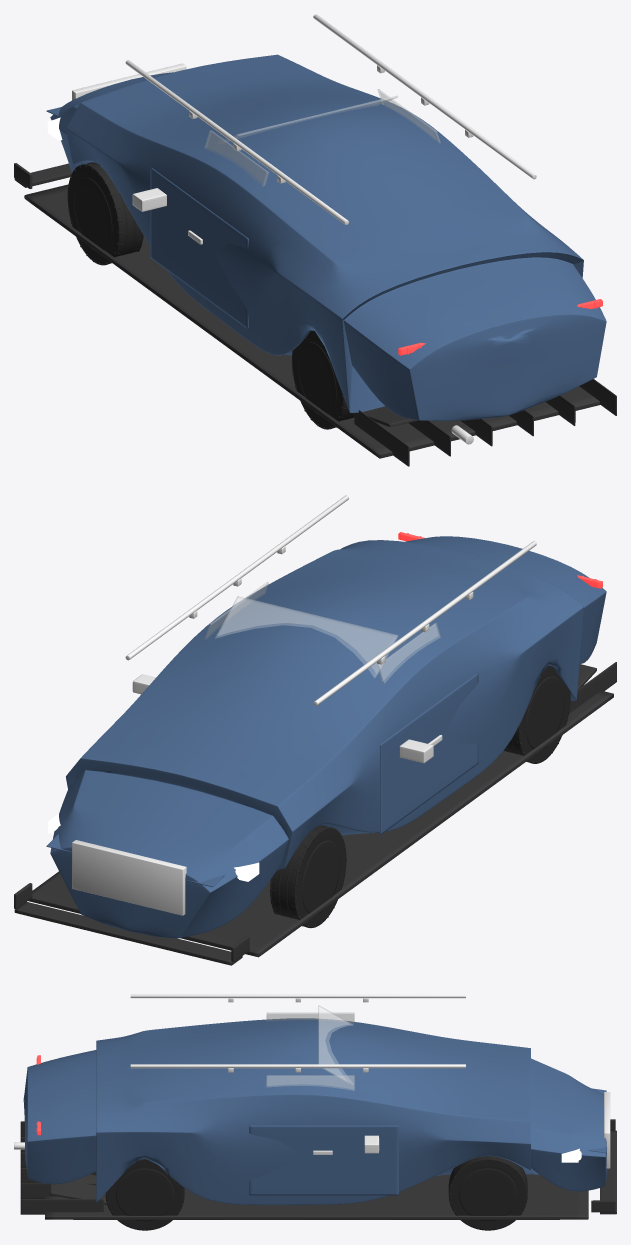
Rendered from vehicle.opt.glb.
The picture shows the model from 3 angles, top to bottom: view 1: azimuth 30°, elevation 25°; view 2: azimuth 150°, elevation 25°; view 3: azimuth 270°, elevation 25°; orthographic projection. The views are drawn at different scales.
Visible parts, largest first — view 1: BODY_MainShell, UNDERBODY_FlatFloor, BODY_Door_FL, WHEEL_FL_Tire, JEWELRY_300TD_RoofRails, WHEEL_RL_Tire, GLASS_Greenhouse, AERO_FrontSplitter, JEWELRY_Hardware, JEWELRY_300TD_ChromeGrille; view 2: BODY_MainShell, UNDERBODY_FlatFloor, BODY_Door_FL, JEWELRY_300TD_ChromeGrille, GLASS_Greenhouse, WHEEL_FL_Tire, AERO_FrontSplitter, WHEEL_RL_Tire, JEWELRY_300TD_RoofRails, JEWELRY_Hardware; view 3: BODY_MainShell, UNDERBODY_FlatFloor, BODY_Door_FR, WHEEL_FR_Tire, WHEEL_RR_Tire, JEWELRY_300TD_RoofRails, GLASS_Greenhouse, AERO_FrontSplitter, JEWELRY_300TD_ChromeGrille, JEWELRY_Hardware.
Part boxes in pixels (x1,y1,x2,y2): BODY_MainShell: [50, 54, 606, 420]; UNDERBODY_FlatFloor: [24, 184, 616, 466]; BODY_Door_FL: [150, 167, 248, 329]; WHEEL_FL_Tire: [67, 162, 143, 265]; JEWELRY_300TD_RoofRails: [125, 14, 536, 224]; WHEEL_RL_Tire: [291, 330, 354, 429]; GLASS_Greenhouse: [204, 89, 440, 186]; AERO_FrontSplitter: [14, 163, 71, 188]; JEWELRY_Hardware: [132, 188, 202, 244]; JEWELRY_300TD_ChromeGrille: [72, 63, 186, 100]; BODY_MainShell: [50, 536, 606, 938]; UNDERBODY_FlatFloor: [28, 662, 616, 957]; BODY_Door_FL: [380, 673, 478, 834]; JEWELRY_300TD_ChromeGrille: [72, 840, 186, 915]; GLASS_Greenhouse: [204, 581, 440, 683]; WHEEL_FL_Tire: [269, 825, 346, 928]; AERO_FrontSplitter: [14, 883, 249, 965]; WHEEL_RL_Tire: [503, 665, 571, 763]; JEWELRY_300TD_RoofRails: [125, 495, 536, 705]; JEWELRY_Hardware: [132, 674, 442, 763]; BODY_MainShell: [23, 1018, 608, 1204]; UNDERBODY_FlatFloor: [20, 1121, 588, 1219]; BODY_Door_FR: [249, 1125, 398, 1195]; WHEEL_FR_Tire: [448, 1156, 527, 1230]; WHEEL_RR_Tire: [105, 1158, 184, 1230]; JEWELRY_300TD_RoofRails: [130, 994, 465, 1072]; GLASS_Greenhouse: [266, 1005, 354, 1090]; AERO_FrontSplitter: [591, 1119, 616, 1214]; JEWELRY_300TD_ChromeGrille: [604, 1092, 610, 1168]; JEWELRY_Hardware: [313, 1135, 379, 1154].
Size of what is drawn, in the model's own units: 2.1 by 1.43 by 4.92.
